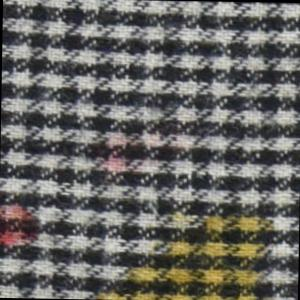Stain: (95, 200, 281, 300), (84, 136, 151, 181), (1, 199, 44, 261)
